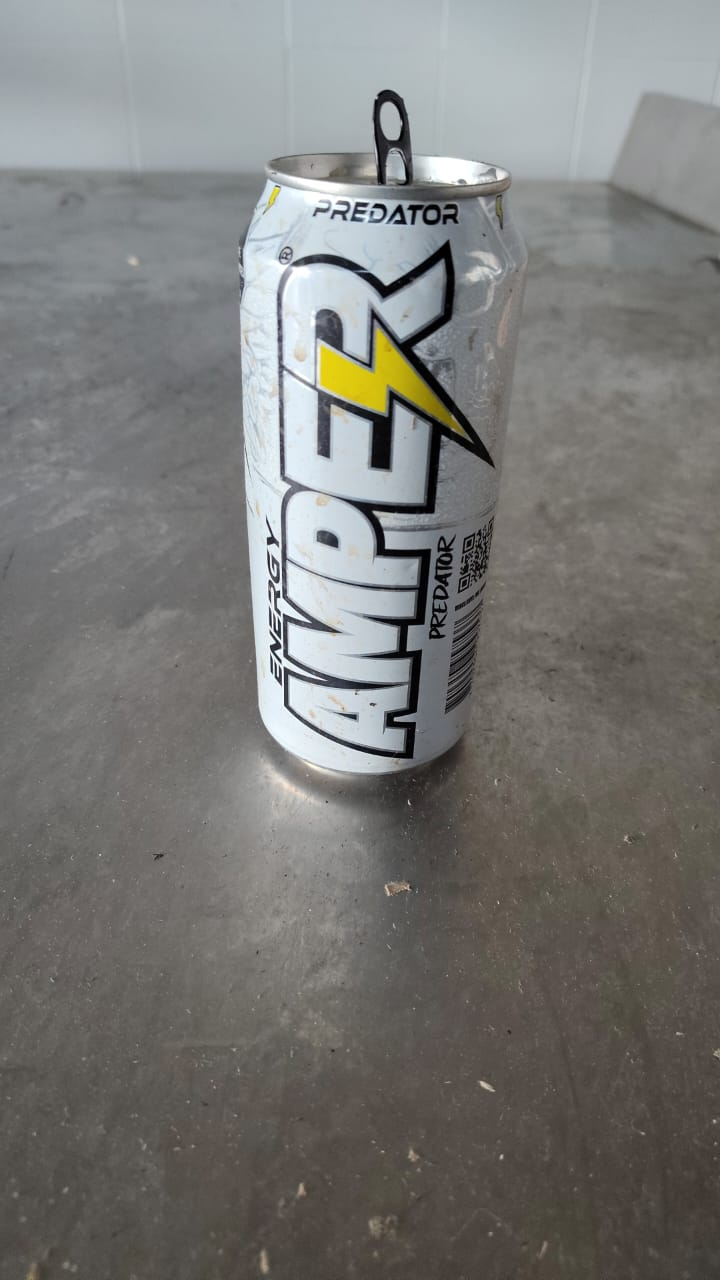Metal: (241, 154, 528, 784)
